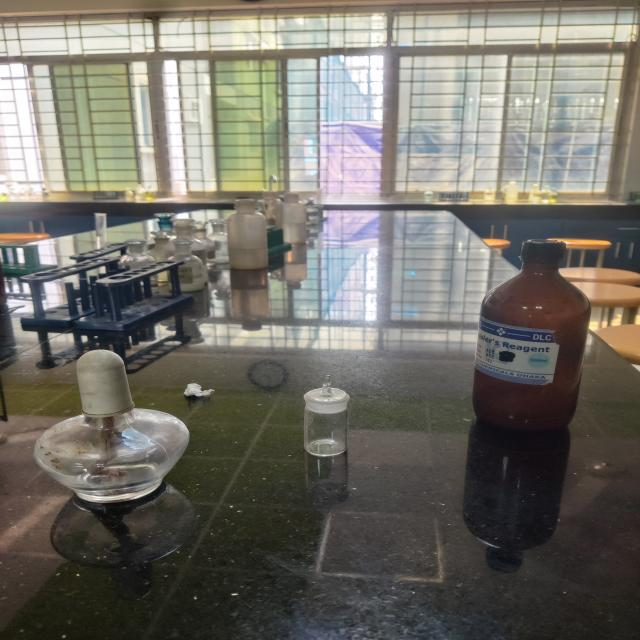Nessler_Reagent_Bottle: (444, 228, 611, 457)
Spirit_Lamp: (15, 336, 207, 531)
Weighing_Bottle: (282, 357, 381, 486)
